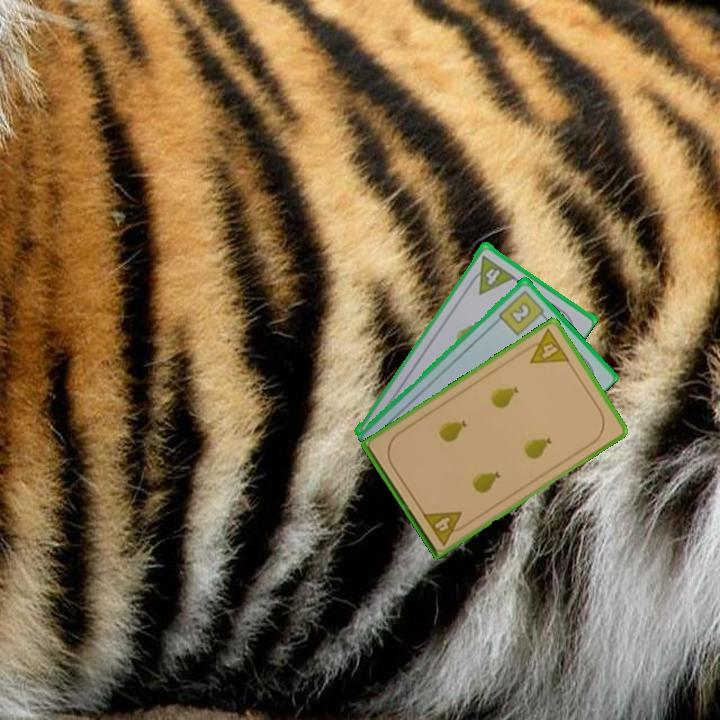2b: (495, 286, 550, 338)
4p: (519, 325, 573, 367), (419, 507, 471, 548), (478, 261, 516, 297)
